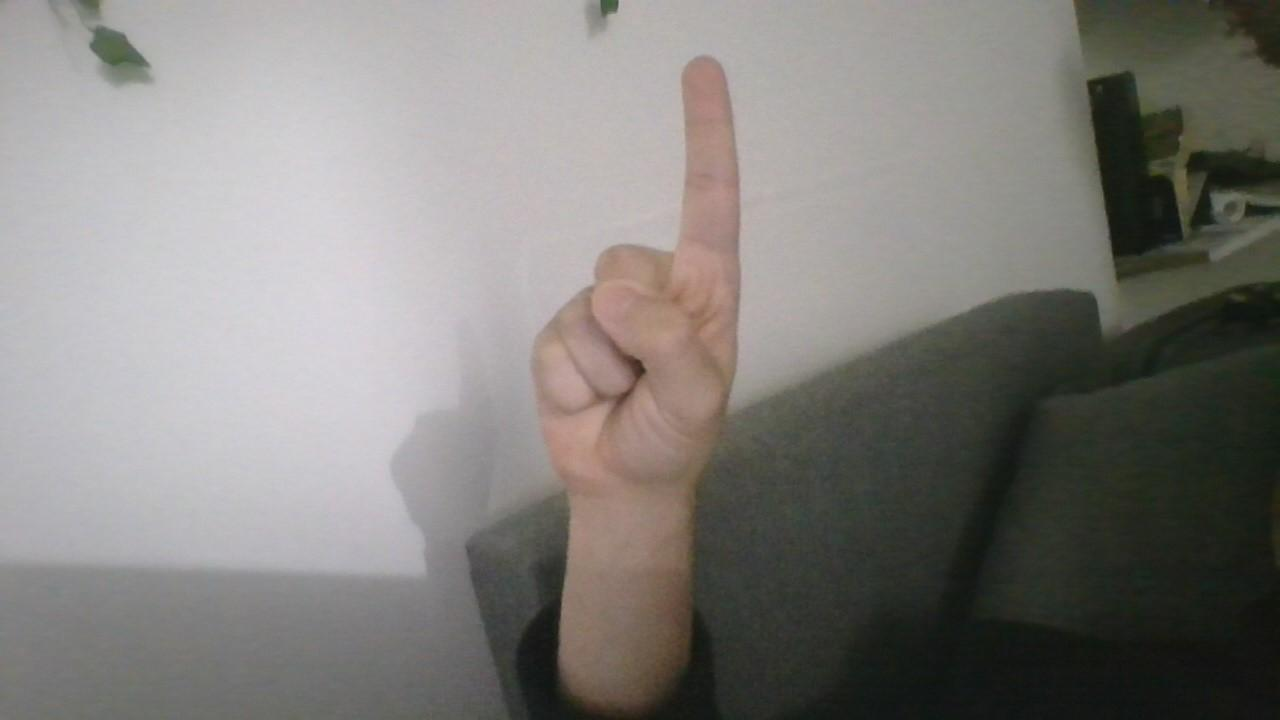up: (506, 26, 785, 514)
